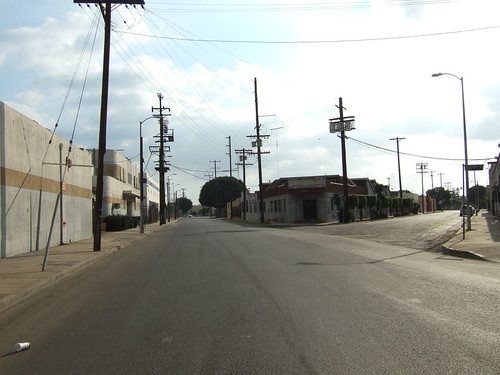building: (1, 112, 100, 281), (257, 170, 375, 233), (98, 157, 170, 230)
power pole: (145, 92, 178, 231), (327, 84, 360, 223)
sky: (1, 1, 489, 161)
street: (32, 224, 500, 370)
